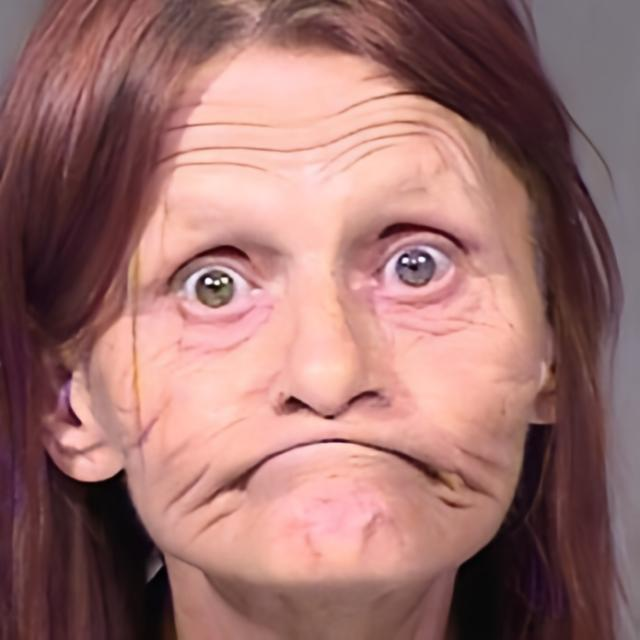surprise: (110, 43, 556, 585)
